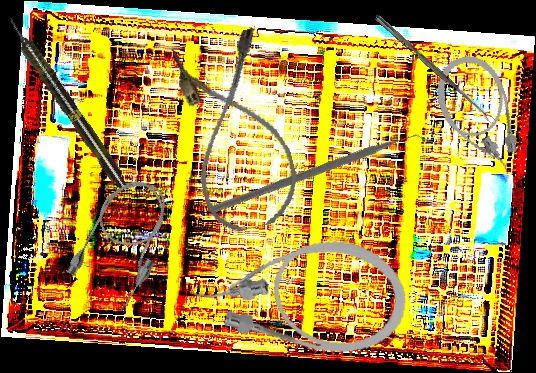Cannula: (188, 222, 415, 363), (167, 26, 307, 238), (61, 167, 187, 315), (427, 48, 530, 188)
Chopper: (207, 57, 437, 296)
Handpiece: (2, 13, 134, 196)
Surgical Spoon: (373, 13, 496, 126)
